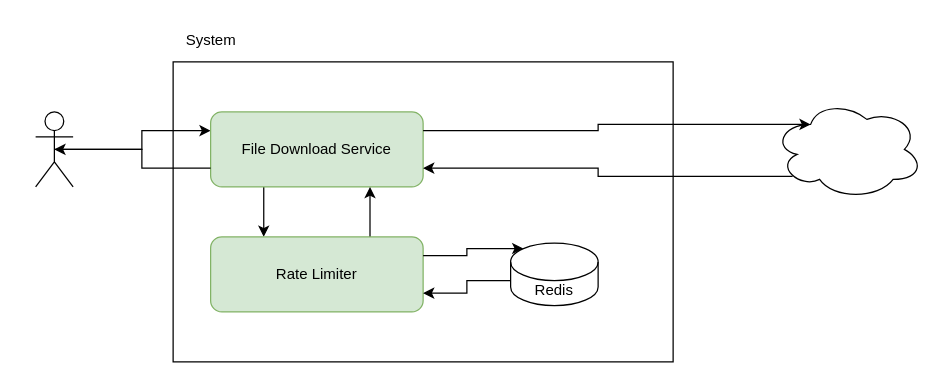
This 945x384 diagram has some shape labels left out. The centre of each missing label's shape, as x and y in pixels:
"Cloud" belongs at pixel 847 148.
"Customer" belongs at pixel 53 149.
